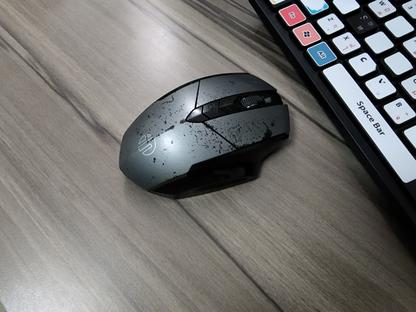mouse: (117, 71, 291, 200)
